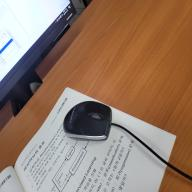mouse: (58, 87, 122, 153)
